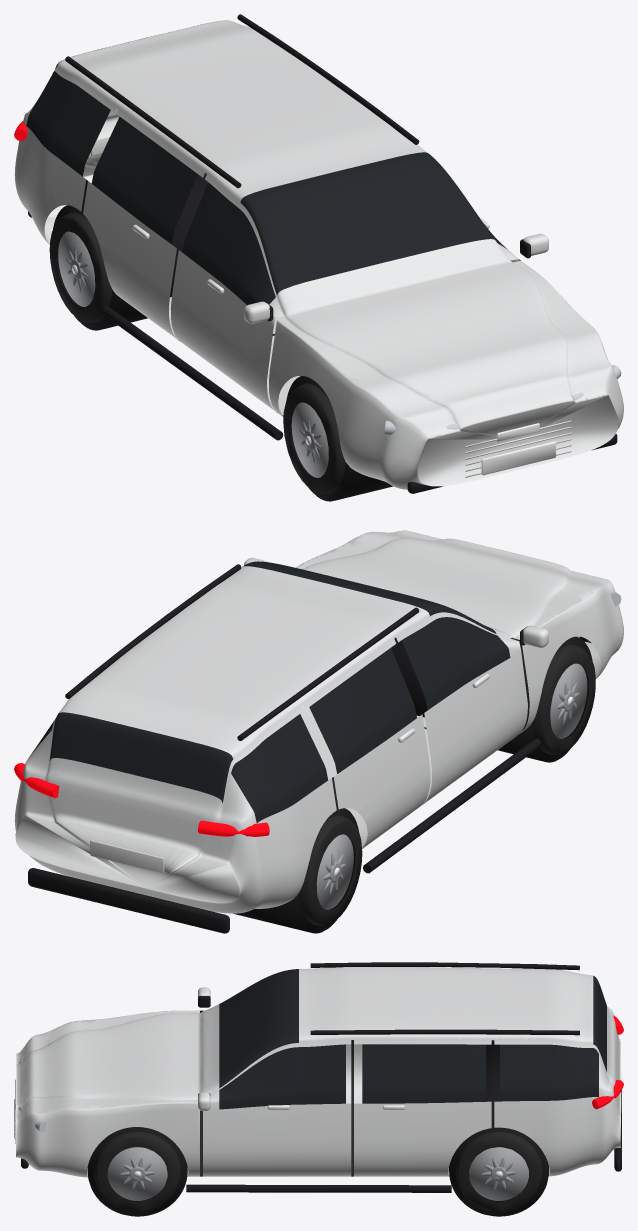
3 views of the same model, one above another, from view 1: azimuth 30°, elevation 25°; view 2: azimuth 150°, elevation 25°; view 3: azimuth 270°, elevation 25° (orthographic). The views are drawn at different scales.
Visible parts, largest first — view 1: body, barrel, tyre; view 2: body, tyre, barrel, taillight; view 3: body, barrel, tyre, taillight.
Boxes of the visible parts, x1,y1,x2,y2 form: body: (14,14,623,501); barrel: (58,135,571,477); tyre: (49,212,345,493); body: (14,530,623,933); tyre: (300,644,595,925); barrel: (90,663,587,909); taillight: (14,763,269,836); body: (16,962,621,1216); barrel: (14,1010,621,1200); tyre: (94,1132,542,1211); taillight: (592,1015,623,1109).
Size of the model in its own units: 2.1 by 1.5 by 4.76.
Materials: 5 (5 with a texture image).
